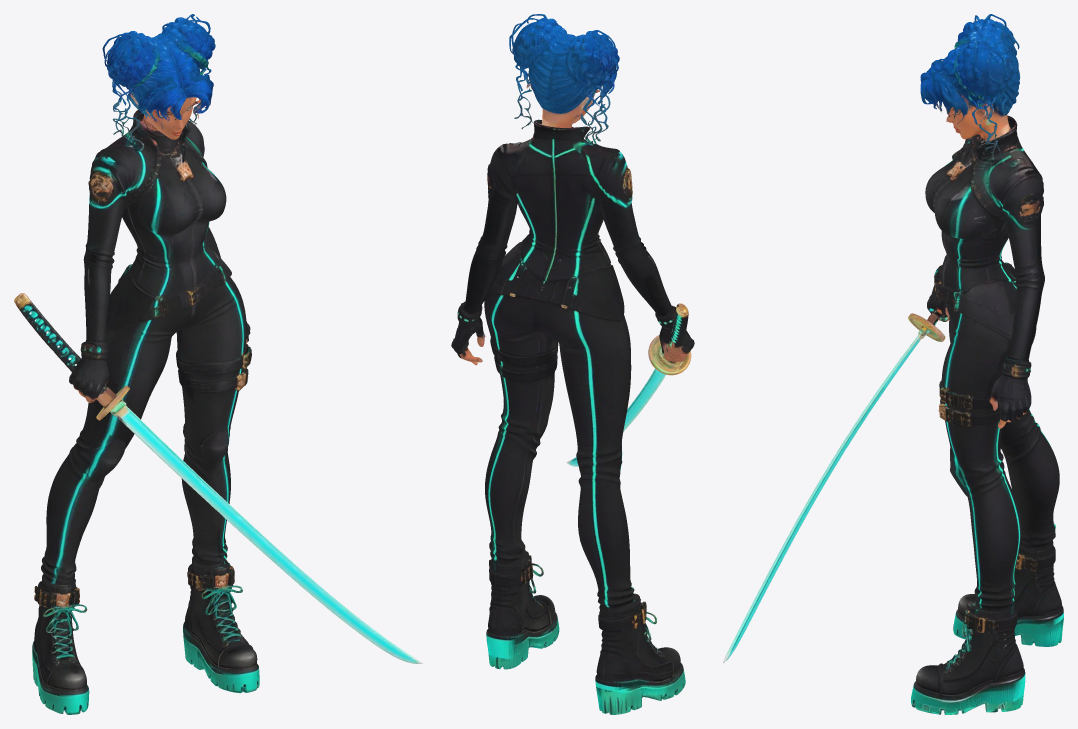
The model's file is XEROX.glb.
3 views of the same model, side by side, from view 1: azimuth 30°, elevation 25°; view 2: azimuth 150°, elevation 25°; view 3: azimuth 270°, elevation 25° (orthographic).
Size of the model in its own units: 0.8046 by 1.9 by 0.8999.
1 material, 1 textured.
